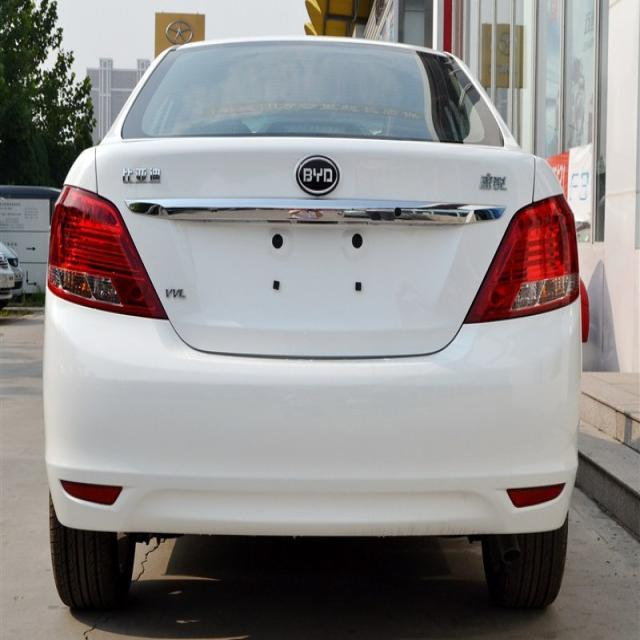back_glass: (121, 43, 504, 148)
back_left_side_light: (46, 182, 170, 324)
back_right_side_light: (462, 192, 581, 326)
rear_bumper: (42, 437, 580, 539)
wheel: (50, 502, 134, 614), (483, 521, 570, 612)
